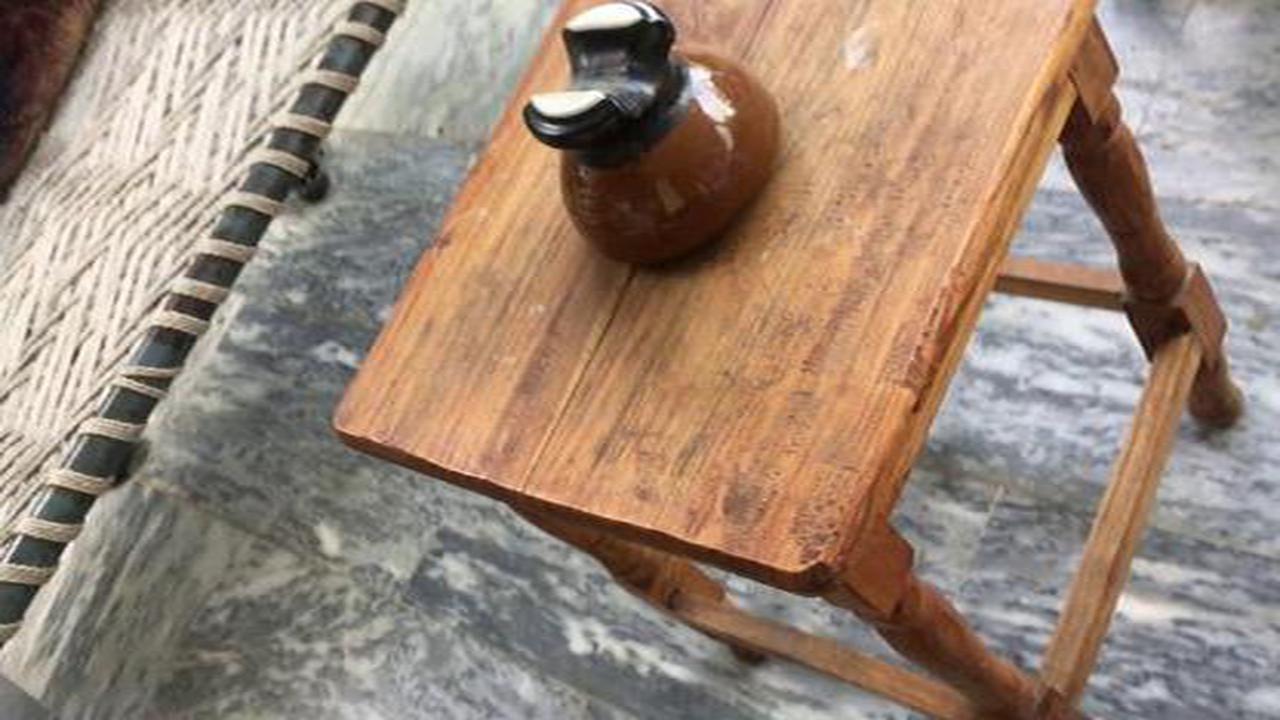insulator_pin: (502, 2, 791, 276)
